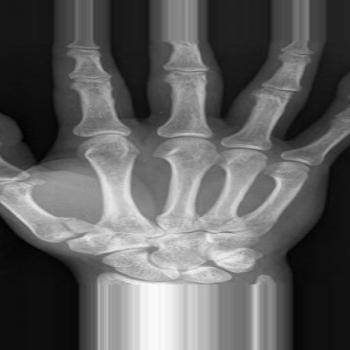Fracture: (53, 210, 90, 240)
